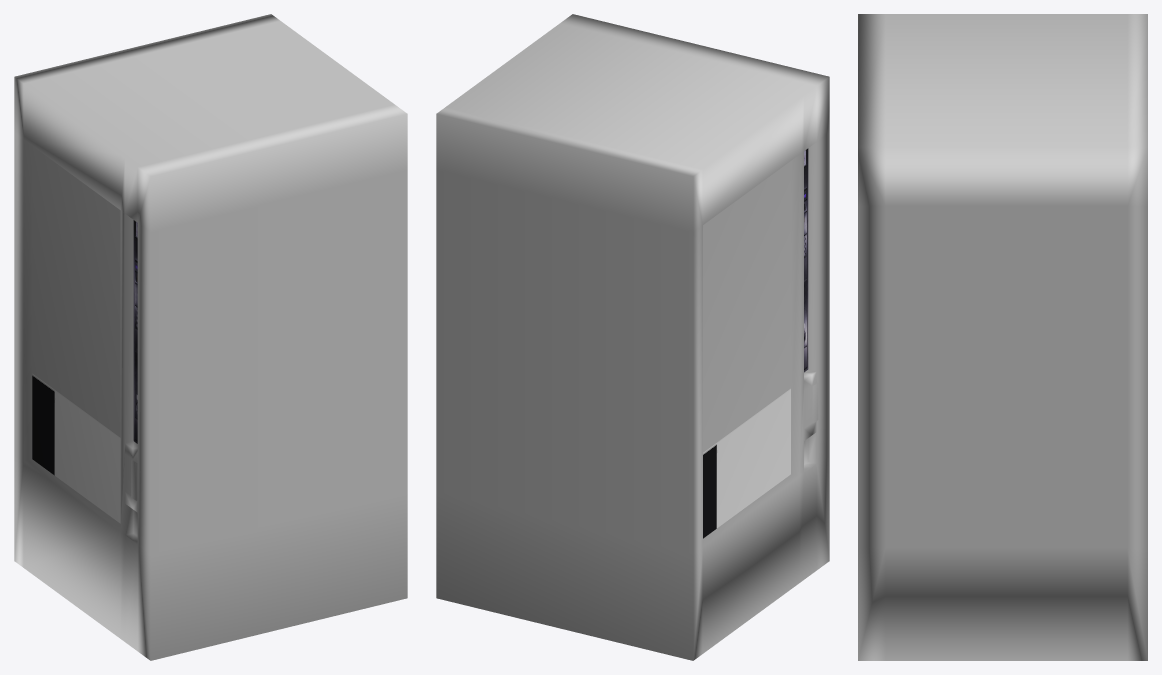
File: MachineABoisson.fbx
3 renders of one model, left to right at view 1: azimuth 30°, elevation 25°; view 2: azimuth 150°, elevation 25°; view 3: azimuth 270°, elevation 25°, orthographic. The views are drawn at different scales.
Visible parts, largest first — view 1: MachineABoisson; view 2: MachineABoisson; view 3: MachineABoisson.
Part boxes in pixels (bbox=[...]): MachineABoisson: bbox=[14, 14, 407, 660]; MachineABoisson: bbox=[436, 14, 829, 660]; MachineABoisson: bbox=[858, 14, 1147, 660].
Bounding box in the file's own units: 108 × 193 × 98.61.
